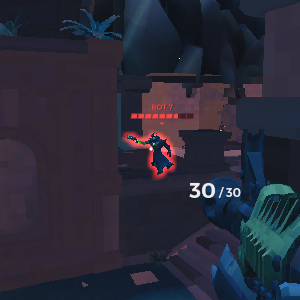model: (135, 124, 173, 178)
